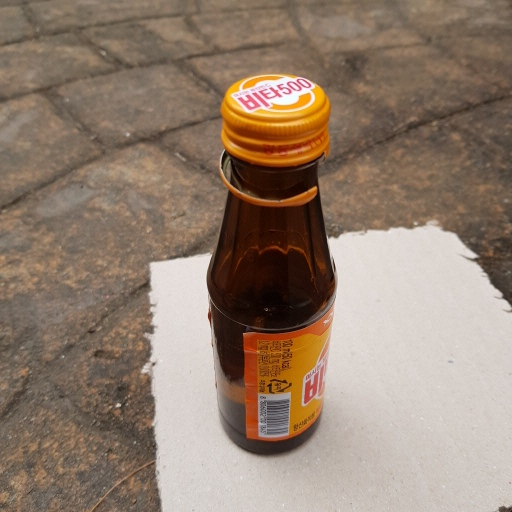Glass_3: (196, 73, 340, 455)
